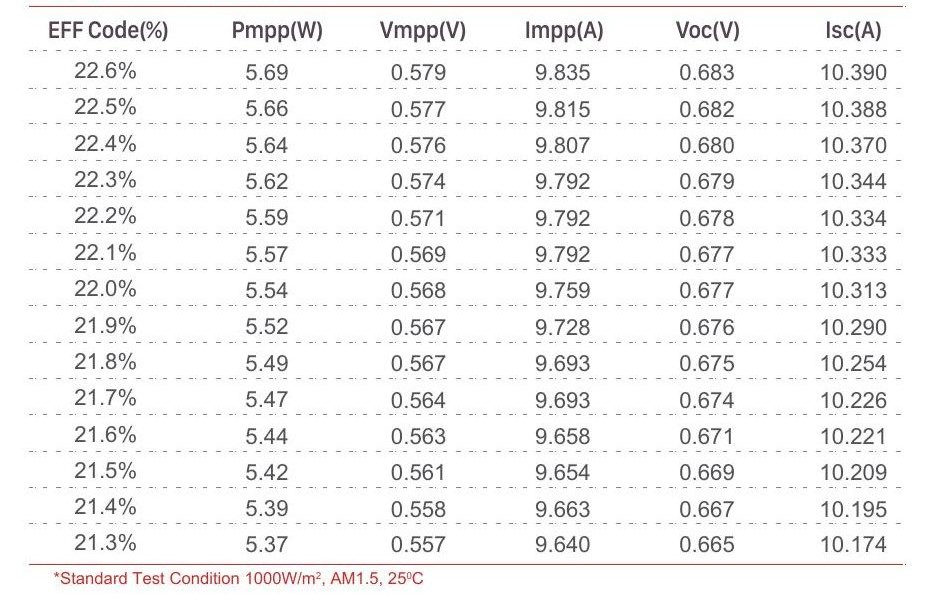table: (21, 2, 915, 569)
table column: (40, 10, 171, 561), (206, 9, 336, 562), (506, 9, 624, 564), (359, 7, 473, 565), (654, 8, 759, 564), (806, 8, 903, 562)
table column header: (30, 11, 909, 46)
table row: (30, 11, 908, 45), (29, 528, 913, 559), (30, 54, 907, 85), (27, 200, 910, 230), (28, 419, 911, 449), (29, 491, 912, 521), (27, 310, 912, 339), (28, 347, 913, 376), (28, 455, 912, 484), (27, 164, 910, 193), (26, 238, 910, 266), (28, 128, 909, 156), (27, 274, 911, 301), (28, 93, 909, 120), (28, 385, 910, 411)
